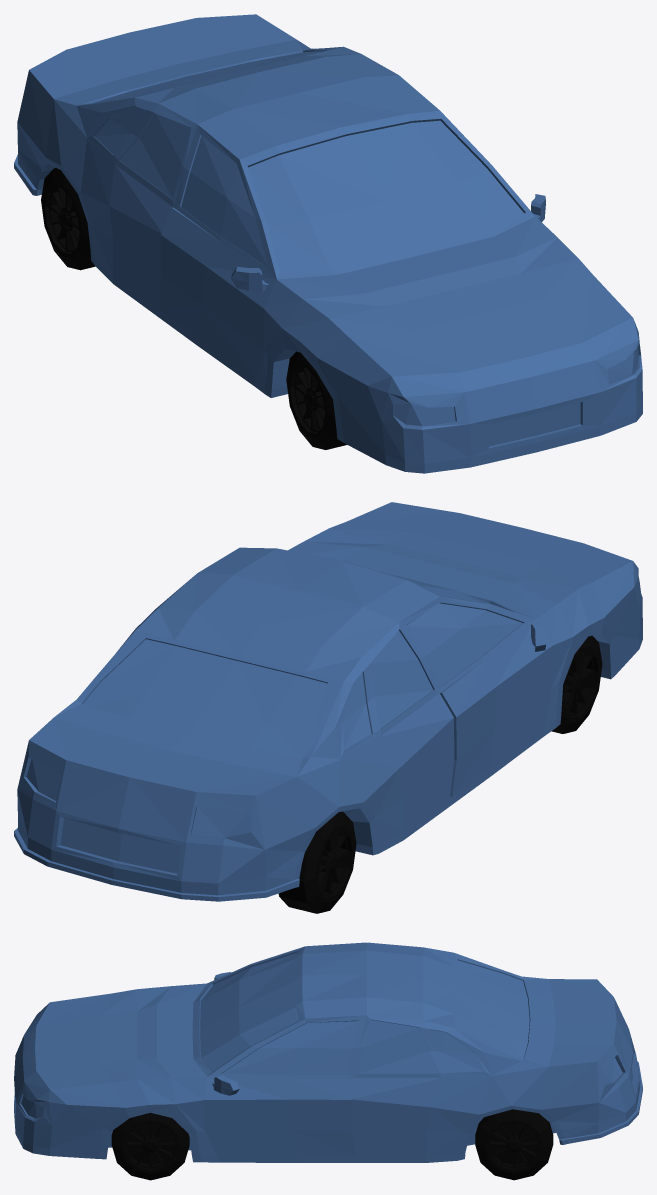
The model's file is normalcar1.glb.
3 renders of one model, top to bottom at view 1: azimuth 30°, elevation 25°; view 2: azimuth 150°, elevation 25°; view 3: azimuth 270°, elevation 25°, orthographic. The views are drawn at different scales.
Visible parts, largest first — view 1: NormalCar1_Cube.012, NormalCar1_BackWheels_Cube.011, NormalCar1_FrontRightWheel_Cube.008; view 2: NormalCar1_Cube.012, NormalCar1_BackWheels_Cube.011, NormalCar1_FrontRightWheel_Cube.008; view 3: NormalCar1_Cube.012, NormalCar1_BackWheels_Cube.011, NormalCar1_FrontLeftWheel_Cube.007.
Part boxes in pixels (bbox=[...]): NormalCar1_Cube.012: bbox=[14, 14, 642, 473]; NormalCar1_BackWheels_Cube.011: bbox=[41, 168, 95, 270]; NormalCar1_FrontRightWheel_Cube.008: bbox=[286, 351, 346, 449]; NormalCar1_Cube.012: bbox=[14, 502, 642, 901]; NormalCar1_BackWheels_Cube.011: bbox=[278, 811, 356, 913]; NormalCar1_FrontRightWheel_Cube.008: bbox=[551, 635, 602, 733]; NormalCar1_Cube.012: bbox=[14, 942, 642, 1162]; NormalCar1_BackWheels_Cube.011: bbox=[475, 1109, 553, 1180]; NormalCar1_FrontLeftWheel_Cube.007: bbox=[111, 1112, 189, 1180].
Size of the model in its own units: 1.81 by 1.18 by 4.22.
